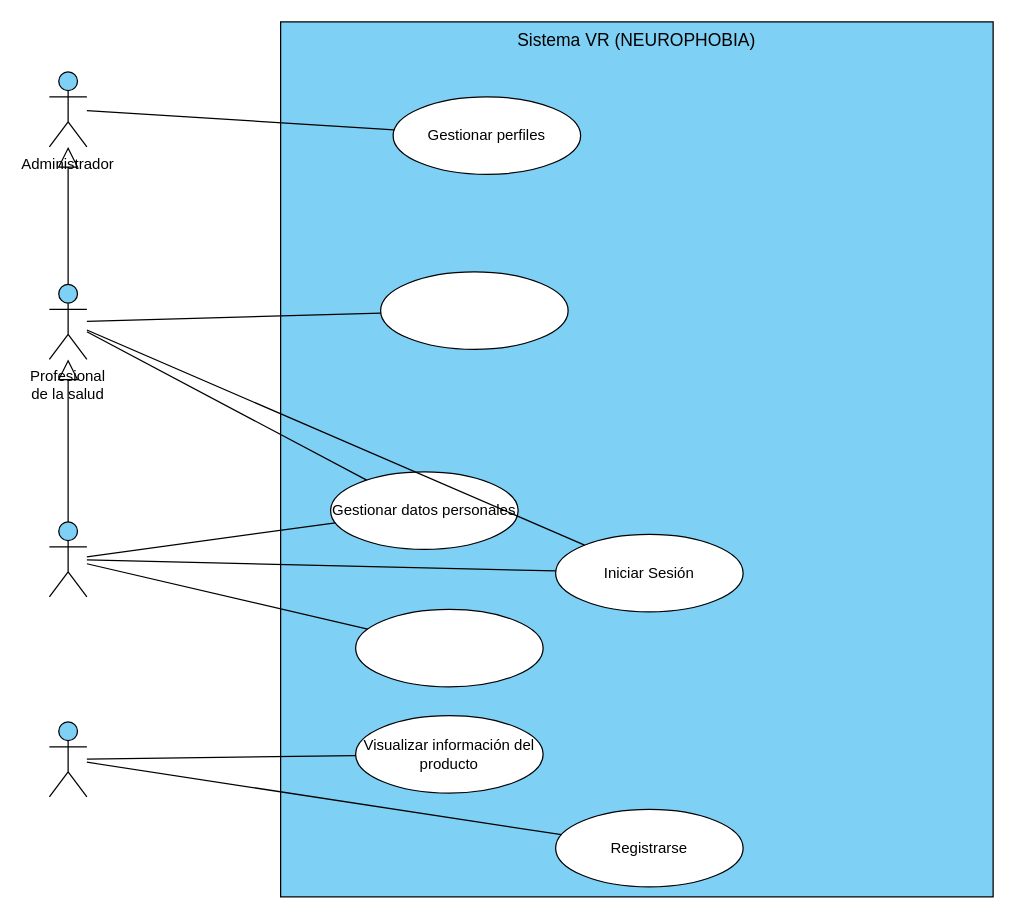
Some shapes in this 1015 by 919 pixel diagram are drawn without their labels. Each missing label, with the centre of its shape:
Gestionar avance: (473,310)
Iniciar Terapia: (448,647)
Paciente: (67,559)
Usuario Externo: (67,759)
